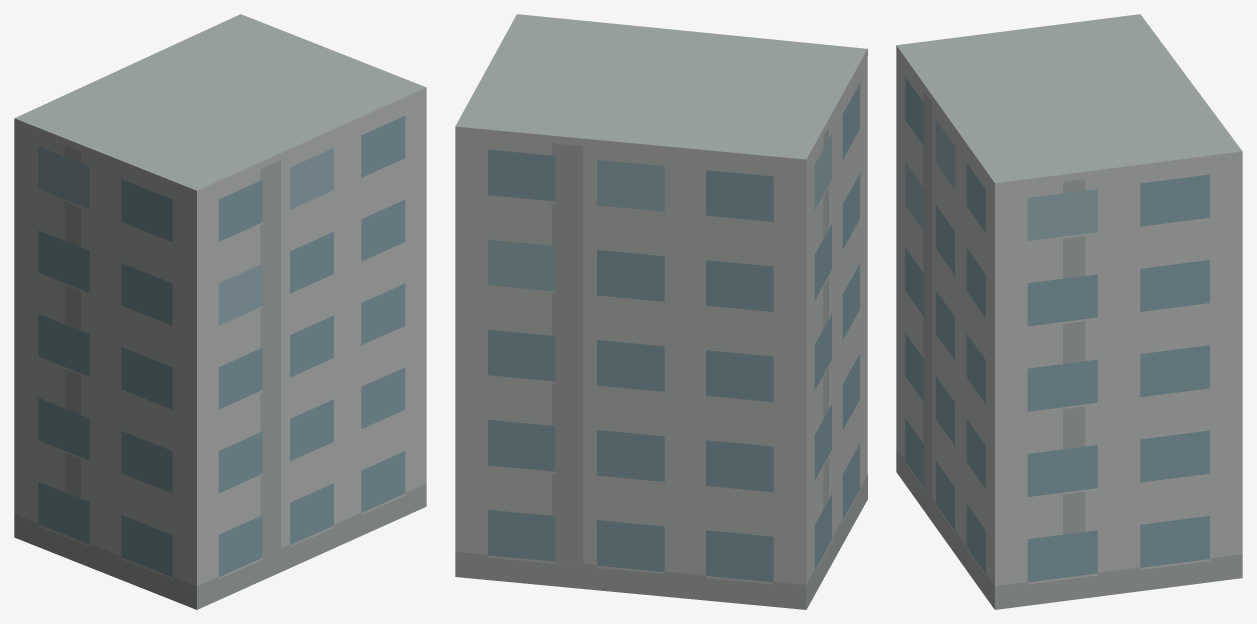
Rendered from survey-upis-32557392.glb.
The picture shows the model from 3 angles, left to right: view 1: azimuth 30°, elevation 25°; view 2: azimuth 150°, elevation 25°; view 3: azimuth 270°, elevation 25°; orthographic projection. The views are drawn at different scales.
Visible parts, largest first — view 1: survey-upis-32557392.tmp; view 2: survey-upis-32557392.tmp; view 3: survey-upis-32557392.tmp.
Part boxes in pixels (left/top/right/bottom): survey-upis-32557392.tmp: left=14, top=14, right=426, bottom=609; survey-upis-32557392.tmp: left=455, top=14, right=867, bottom=609; survey-upis-32557392.tmp: left=896, top=14, right=1242, bottom=609.
Bounding box in the file's own units: 12.01 × 14.1 × 10.38.
